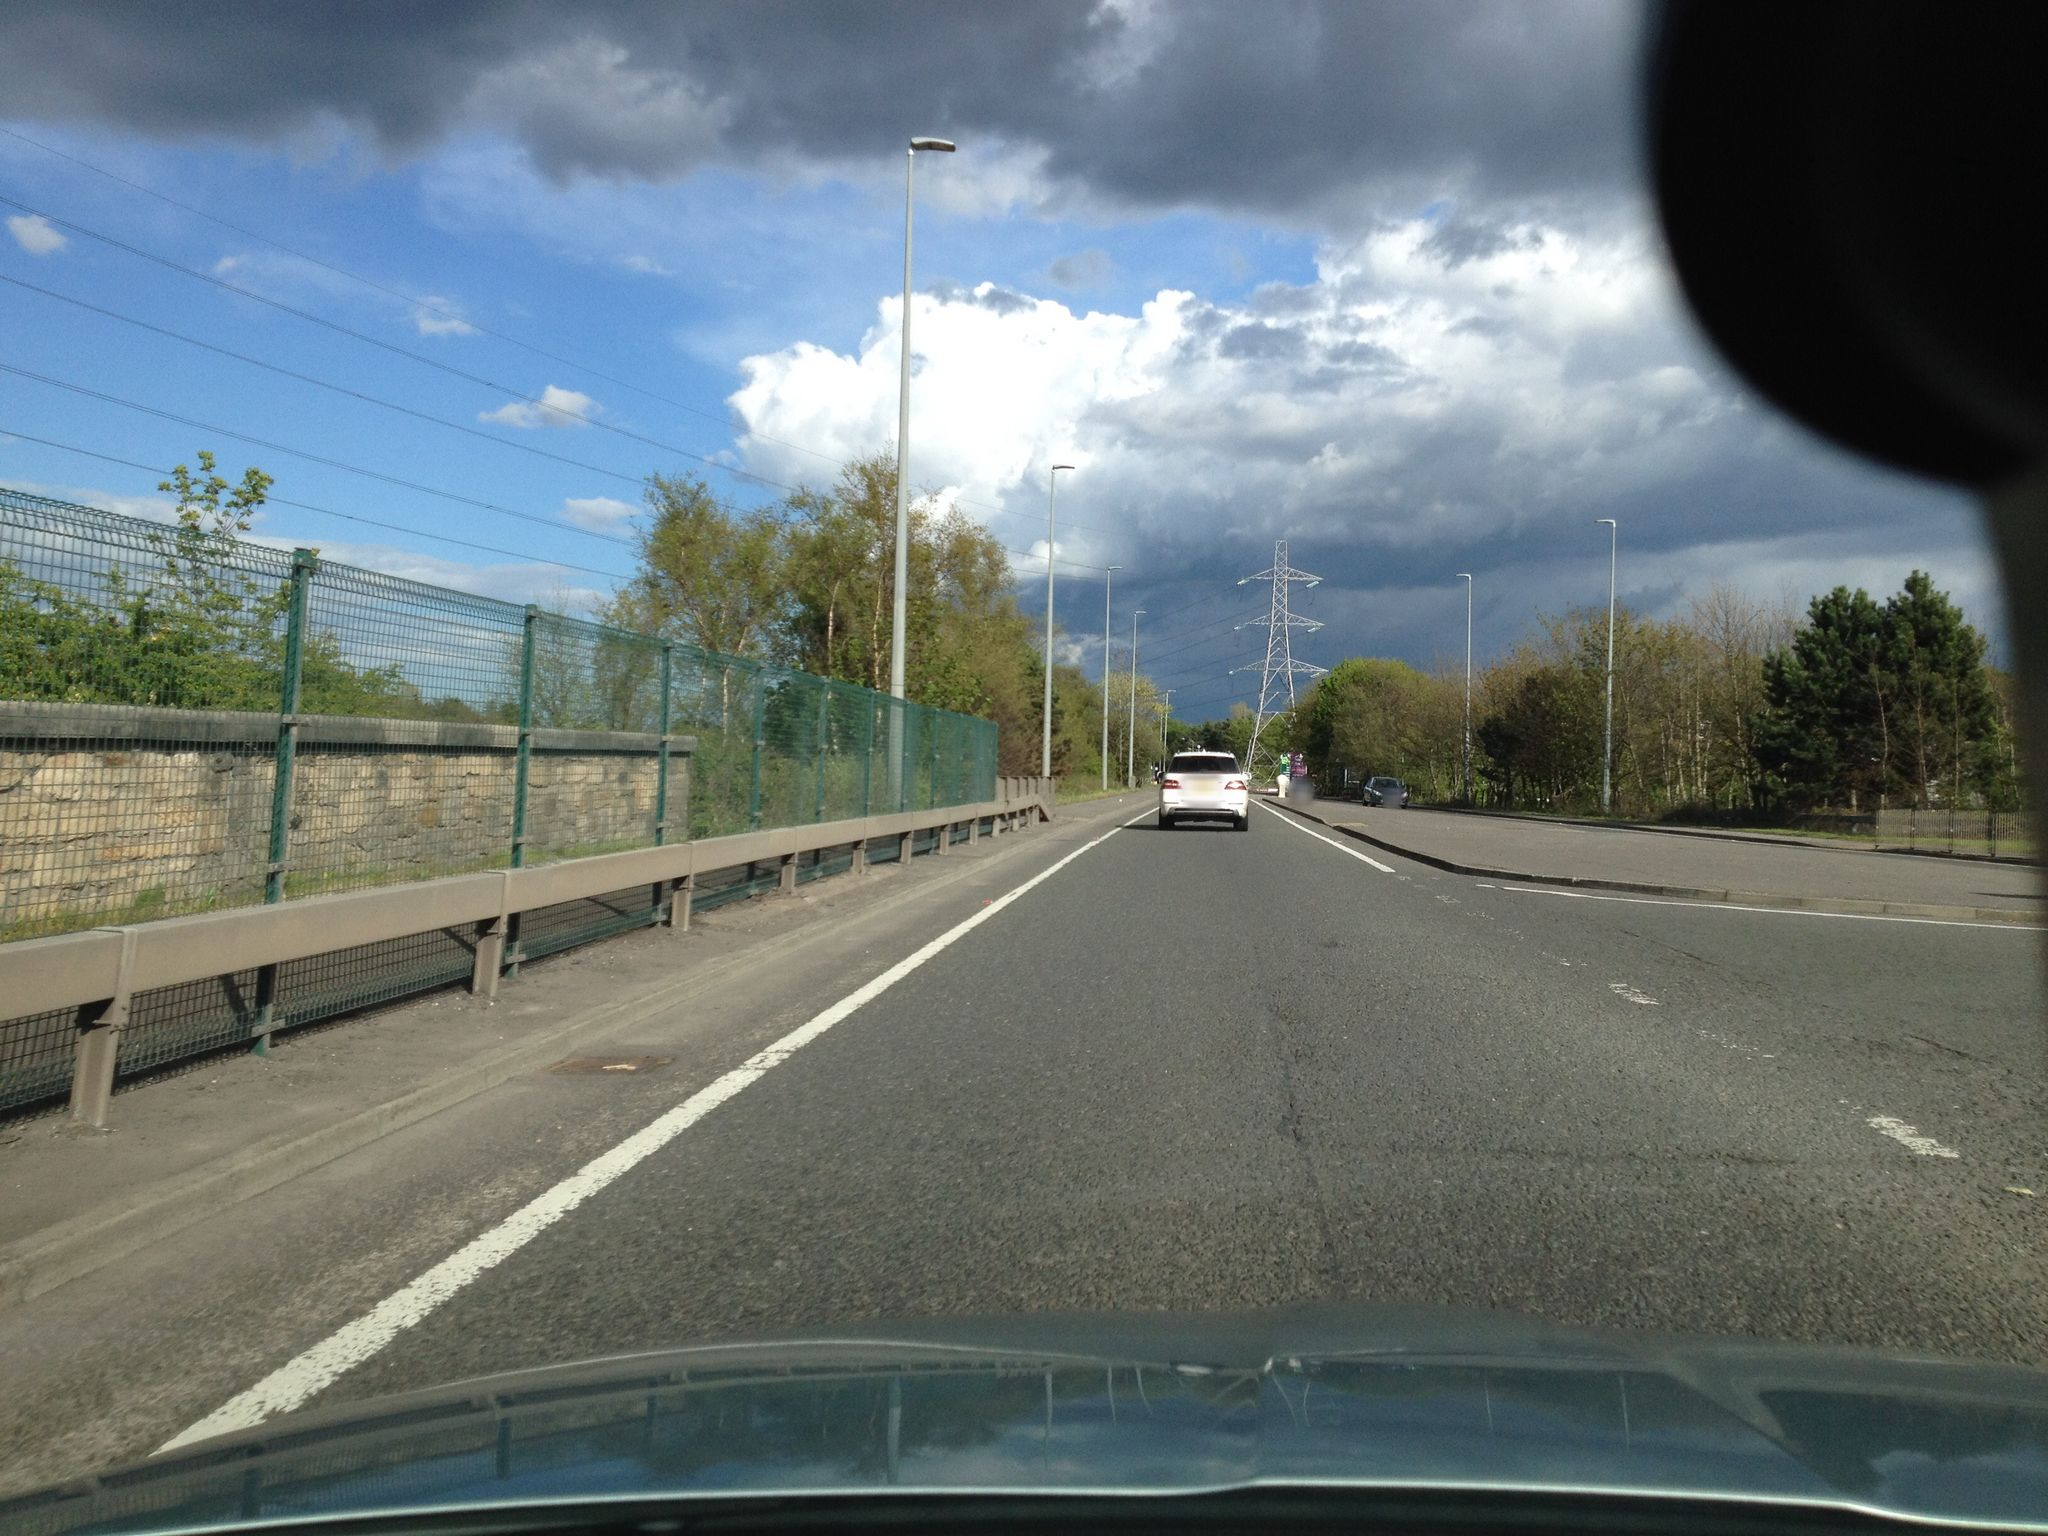car: (1155, 750, 1251, 833), (1363, 776, 1408, 808)
